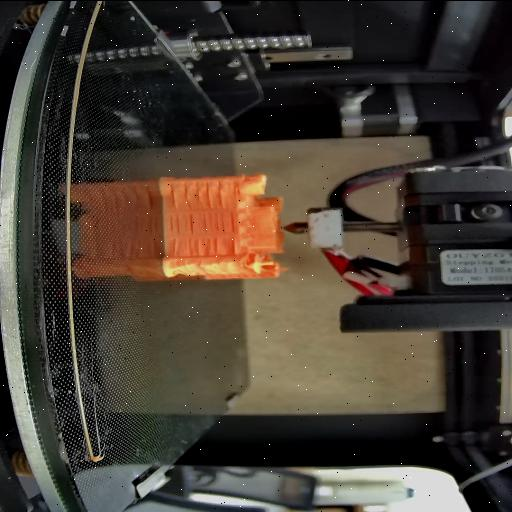cracks: (170, 179, 226, 211), (168, 214, 238, 234), (172, 235, 220, 257), (231, 236, 240, 254)
